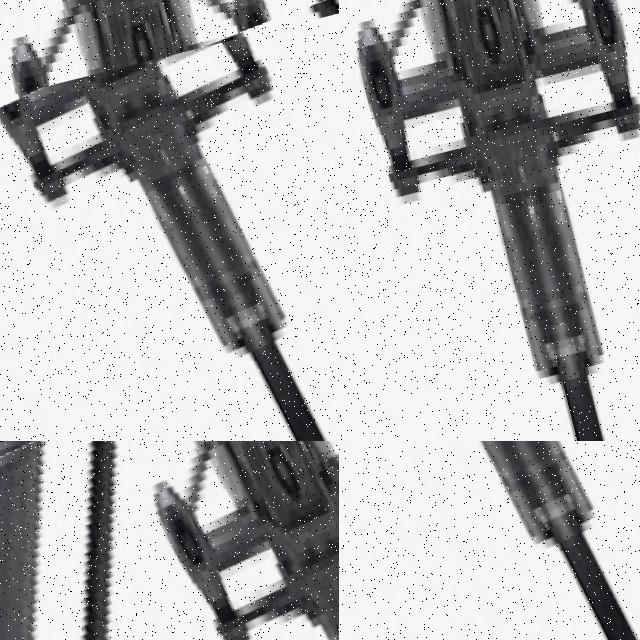drone: (0, 4, 339, 441), (0, 441, 339, 640), (339, 441, 640, 640)
